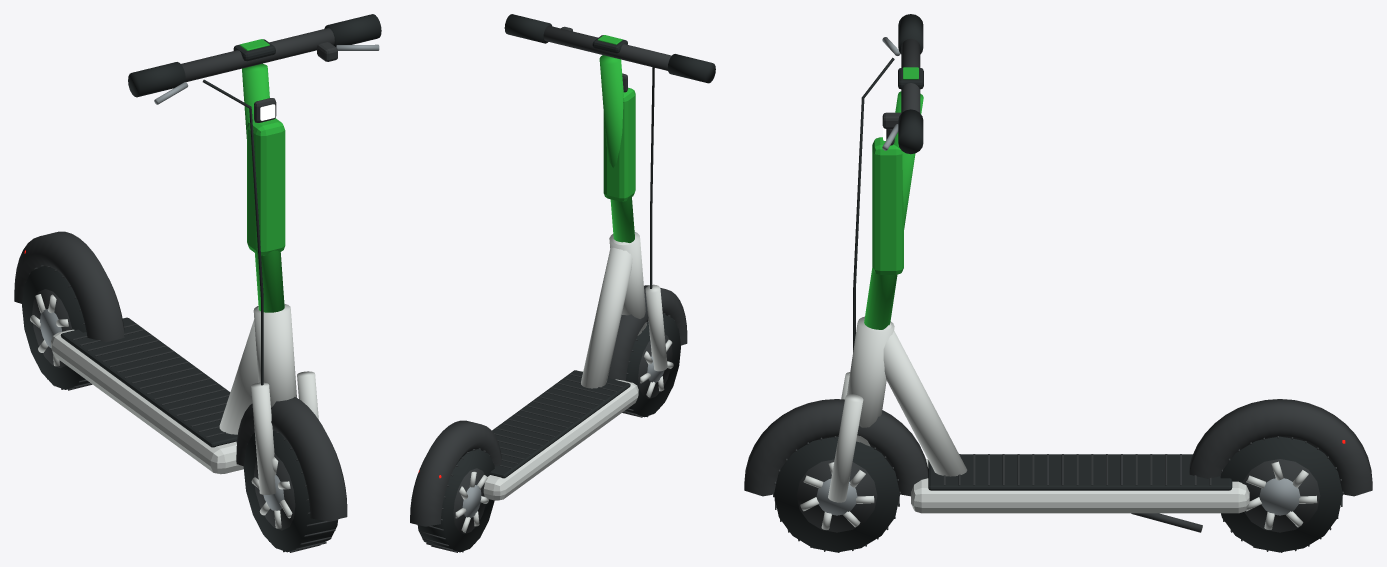
Rendered from SW_Scooter_01.glb.
The picture shows the model from 3 angles, left to right: view 1: azimuth 30°, elevation 25°; view 2: azimuth 150°, elevation 25°; view 3: azimuth 270°, elevation 25°; orthographic projection. The views are drawn at different scales.
Visible parts, largest first — view 1: Scooter_Body_Graphite_trim, Scooter_Body_Satin_white_alloy, Scooter_Body_Black_rubber_and_grips, Scooter_Body_Rental_green, Scooter_Front_Wheel_Black_rubber_and_grips, Scooter_Rear_Wheel_Black_rubber_and_grips, Scooter_Front_Wheel_Graphite_trim, Scooter_Rear_Wheel_Graphite_trim, Scooter_Front_Wheel_Satin_white_alloy, Scooter_Rear_Wheel_Satin_white_alloy, Scooter_Rear_Wheel_Wheel_silver, Scooter_Body_Wheel_silver; view 2: Scooter_Body_Graphite_trim, Scooter_Body_Satin_white_alloy, Scooter_Body_Black_rubber_and_grips, Scooter_Body_Rental_green, Scooter_Rear_Wheel_Black_rubber_and_grips, Scooter_Front_Wheel_Black_rubber_and_grips, Scooter_Rear_Wheel_Graphite_trim, Scooter_Front_Wheel_Graphite_trim, Scooter_Rear_Wheel_Satin_white_alloy, Scooter_Rear_Wheel_Wheel_silver, Scooter_Front_Wheel_Satin_white_alloy; view 3: Scooter_Body_Graphite_trim, Scooter_Body_Satin_white_alloy, Scooter_Body_Black_rubber_and_grips, Scooter_Body_Rental_green, Scooter_Front_Wheel_Black_rubber_and_grips, Scooter_Rear_Wheel_Black_rubber_and_grips, Scooter_Rear_Wheel_Graphite_trim, Scooter_Front_Wheel_Graphite_trim, Scooter_Rear_Wheel_Wheel_silver, Scooter_Rear_Wheel_Satin_white_alloy, Scooter_Front_Wheel_Satin_white_alloy, Scooter_Front_Wheel_Wheel_silver.
Boxes of the visible parts, x1,y1,x2,y2 form: Scooter_Body_Graphite_trim: (14, 28, 347, 521); Scooter_Body_Satin_white_alloy: (51, 303, 318, 494); Scooter_Body_Black_rubber_and_grips: (60, 14, 381, 447); Scooter_Body_Rental_green: (239, 39, 285, 312); Scooter_Front_Wheel_Black_rubber_and_grips: (243, 430, 337, 552); Scooter_Rear_Wheel_Black_rubber_and_grips: (22, 266, 89, 389); Scooter_Front_Wheel_Graphite_trim: (245, 432, 338, 552); Scooter_Rear_Wheel_Graphite_trim: (29, 265, 92, 390); Scooter_Front_Wheel_Satin_white_alloy: (251, 457, 292, 528); Scooter_Rear_Wheel_Satin_white_alloy: (30, 294, 68, 366); Scooter_Rear_Wheel_Wheel_silver: (40, 309, 61, 347); Scooter_Body_Wheel_silver: (154, 44, 379, 104); Scooter_Body_Graphite_trim: (410, 25, 687, 526); Scooter_Body_Satin_white_alloy: (483, 232, 667, 500); Scooter_Body_Black_rubber_and_grips: (490, 14, 715, 478); Scooter_Body_Rental_green: (598, 35, 635, 242); Scooter_Rear_Wheel_Black_rubber_and_grips: (417, 449, 494, 552); Scooter_Front_Wheel_Black_rubber_and_grips: (625, 314, 680, 417); Scooter_Rear_Wheel_Graphite_trim: (419, 448, 493, 552); Scooter_Front_Wheel_Graphite_trim: (622, 313, 674, 417); Scooter_Rear_Wheel_Satin_white_alloy: (455, 471, 488, 532); Scooter_Rear_Wheel_Wheel_silver: (462, 485, 481, 517); Scooter_Front_Wheel_Satin_white_alloy: (640, 339, 673, 397); Scooter_Body_Graphite_trim: (744, 39, 1372, 532); Scooter_Body_Satin_white_alloy: (828, 316, 1249, 513); Scooter_Body_Black_rubber_and_grips: (853, 14, 1232, 490); Scooter_Body_Rental_green: (864, 67, 923, 329); Scooter_Front_Wheel_Black_rubber_and_grips: (774, 436, 899, 552); Scooter_Rear_Wheel_Black_rubber_and_grips: (1220, 436, 1342, 552); Scooter_Rear_Wheel_Graphite_trim: (1221, 436, 1343, 552); Scooter_Front_Wheel_Graphite_trim: (773, 436, 900, 552); Scooter_Rear_Wheel_Wheel_silver: (1259, 478, 1300, 515); Scooter_Rear_Wheel_Satin_white_alloy: (1246, 461, 1317, 529); Scooter_Front_Wheel_Satin_white_alloy: (800, 462, 874, 529); Scooter_Front_Wheel_Wheel_silver: (816, 478, 857, 515).
Bounding box in the file's own units: 0.64 × 1.2 × 1.45.
